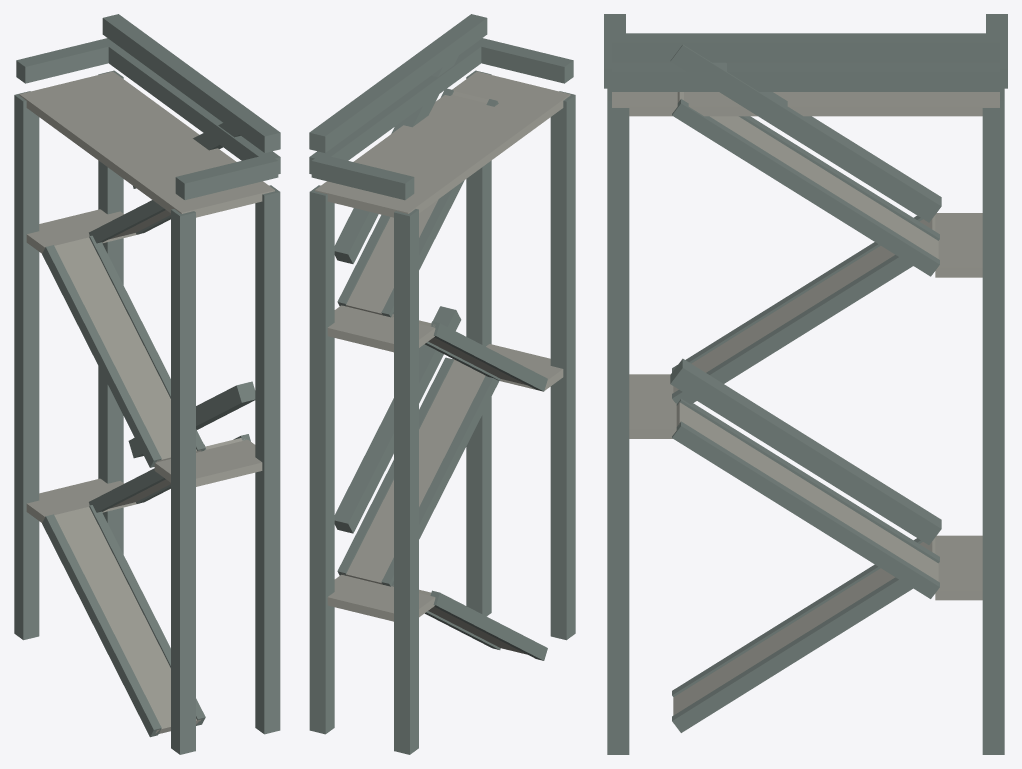
Rendered from SM_EscaleraAzotea_v0_Metalica_LOD1.fbx.
3 views of the same model, side by side, from view 1: azimuth 30°, elevation 25°; view 2: azimuth 150°, elevation 25°; view 3: azimuth 270°, elevation 25° (orthographic). The views are drawn at different scales.
Parts seen in each view (by area): view 1: SM_escalera_azotea_v0_LOD1; view 2: SM_escalera_azotea_v0_LOD1; view 3: SM_escalera_azotea_v0_LOD1.
Part boxes in pixels (x1=…): SM_escalera_azotea_v0_LOD1: x1=14, y1=14, x2=280, y2=754; SM_escalera_azotea_v0_LOD1: x1=309, y1=14, x2=575, y2=754; SM_escalera_azotea_v0_LOD1: x1=604, y1=14, x2=1007, y2=754.
Size of the model in its own units: 2.22 by 12.27 by 6.24.
